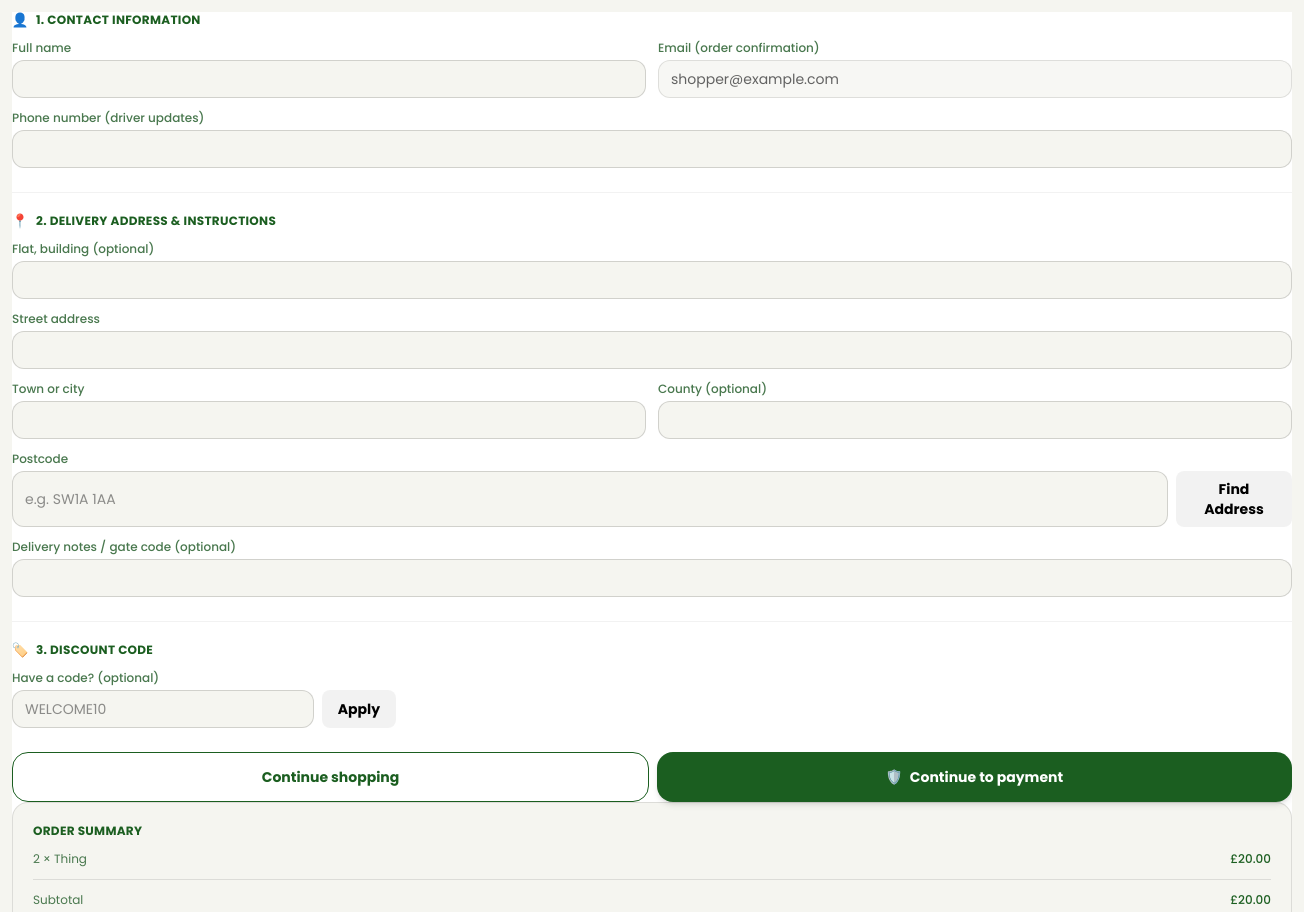
Test: Apply (R8, R9, R11, R12) › shows a refused answer's message in text-danger
The width and height of the screenshot is (1304, 912).
Type "nope" into the field with id "discountCode".
click(163, 709); type("nope")  # box [12,690,314,728]
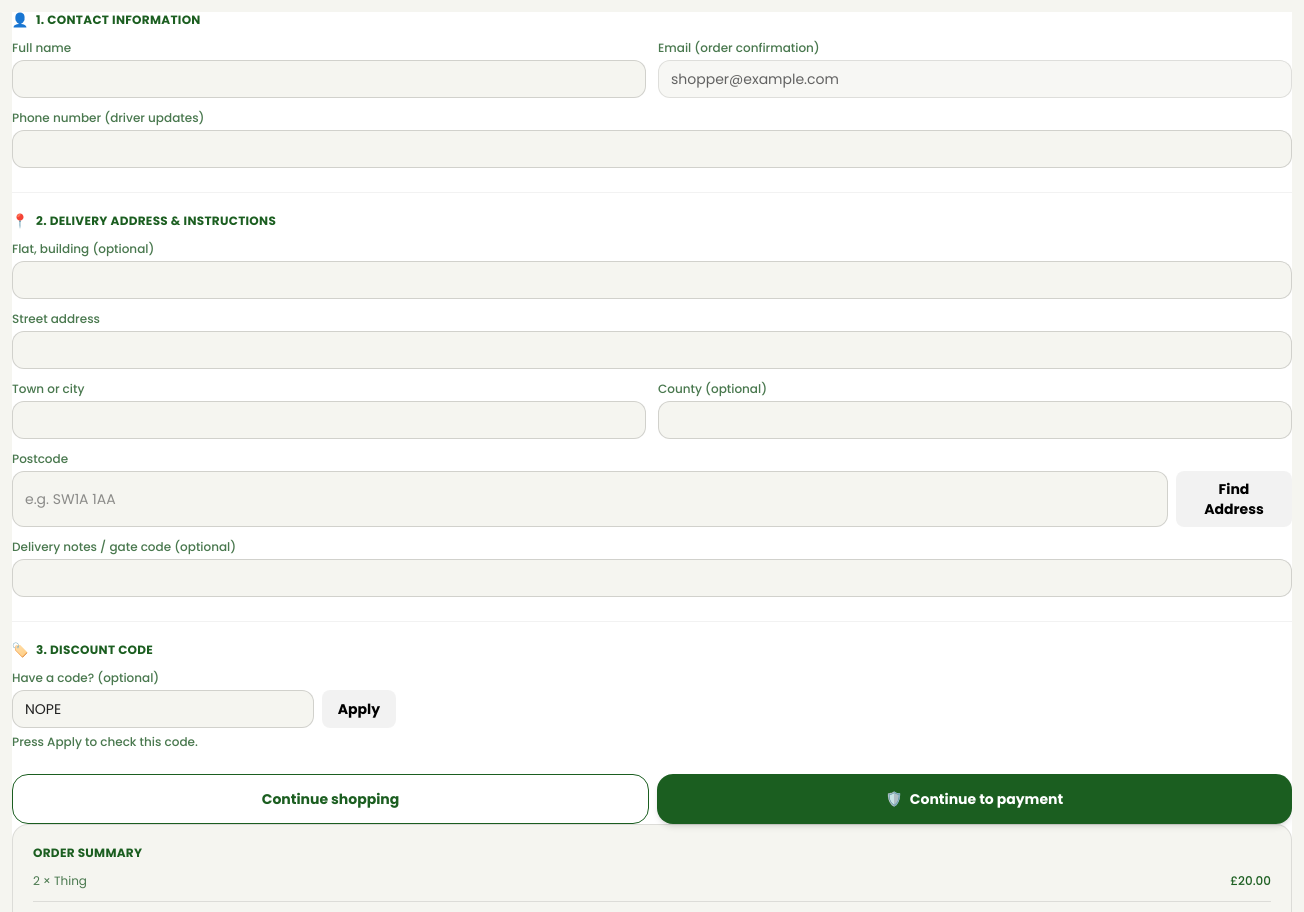
Click the button "Apply".
click(359, 709)  # box [322,690,396,728]
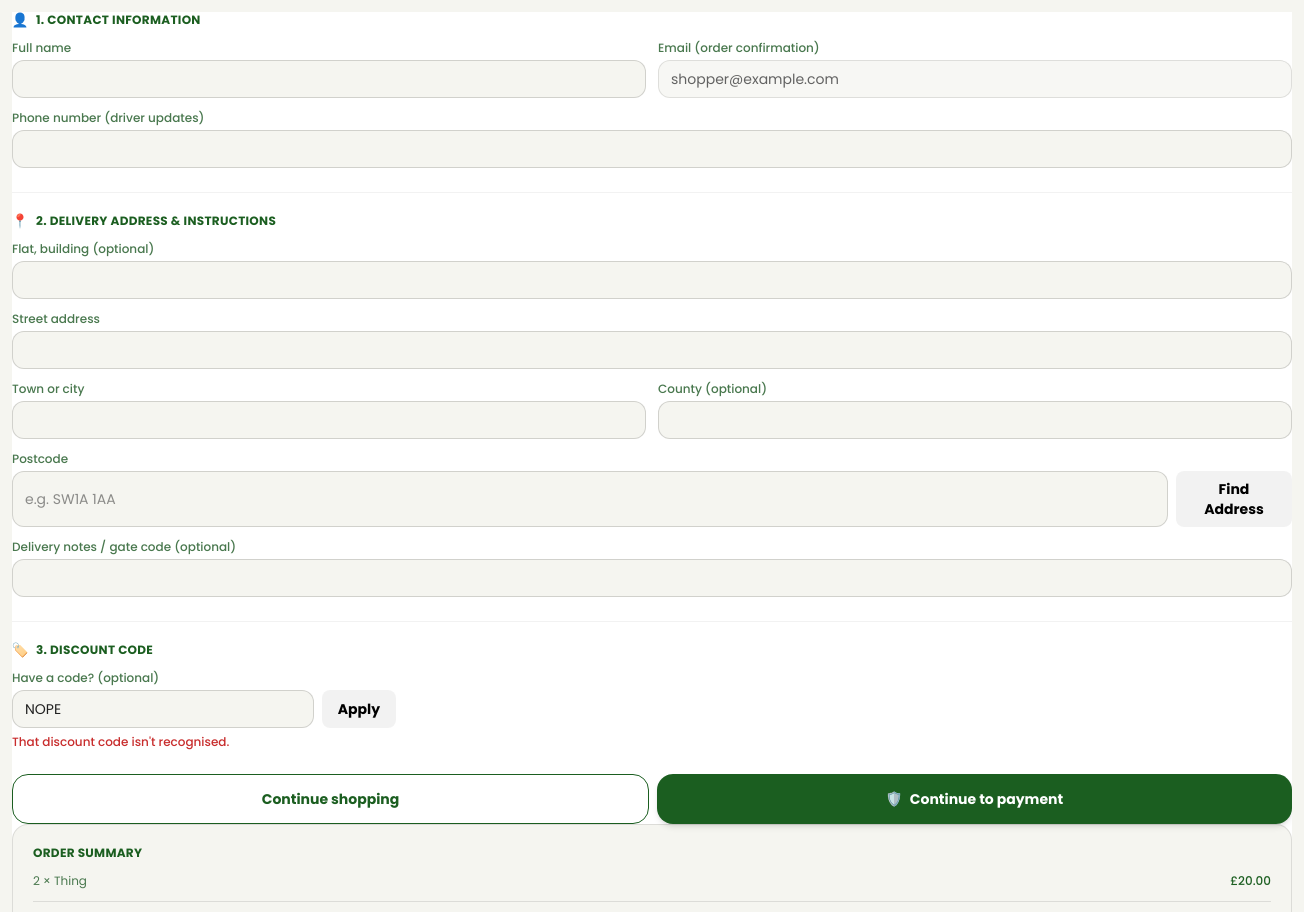
Expected: the text "That discount code isn't recognised." is shown, [12,733,229,750]
